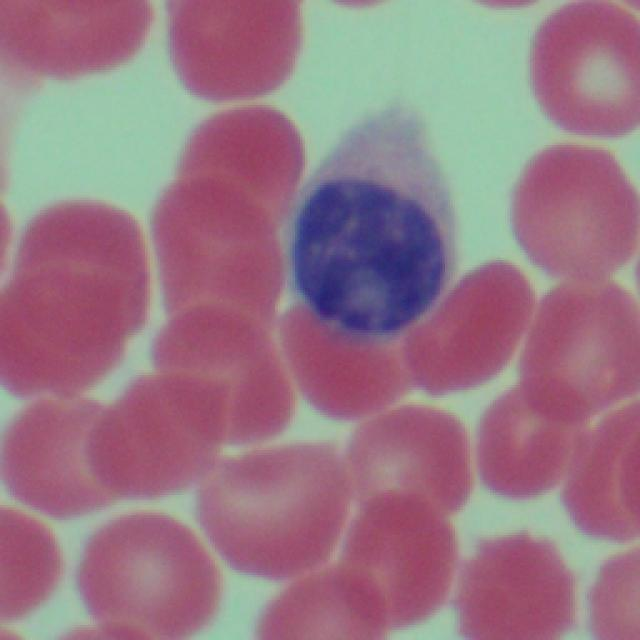RBC: (152, 299, 296, 446), (204, 442, 350, 578), (12, 201, 150, 344), (153, 180, 280, 332), (510, 142, 640, 282), (79, 512, 222, 636), (516, 277, 640, 418), (92, 372, 226, 501), (413, 261, 534, 395), (347, 404, 475, 530), (1, 396, 130, 520), (342, 492, 457, 626), (281, 303, 415, 416), (178, 107, 303, 228), (529, 3, 640, 136), (0, 282, 124, 397), (166, 0, 302, 102), (454, 533, 581, 638), (0, 0, 155, 82), (482, 382, 574, 504), (568, 407, 640, 539), (254, 571, 385, 640), (0, 509, 62, 621), (588, 549, 640, 638)
WBC: (288, 105, 459, 338)
